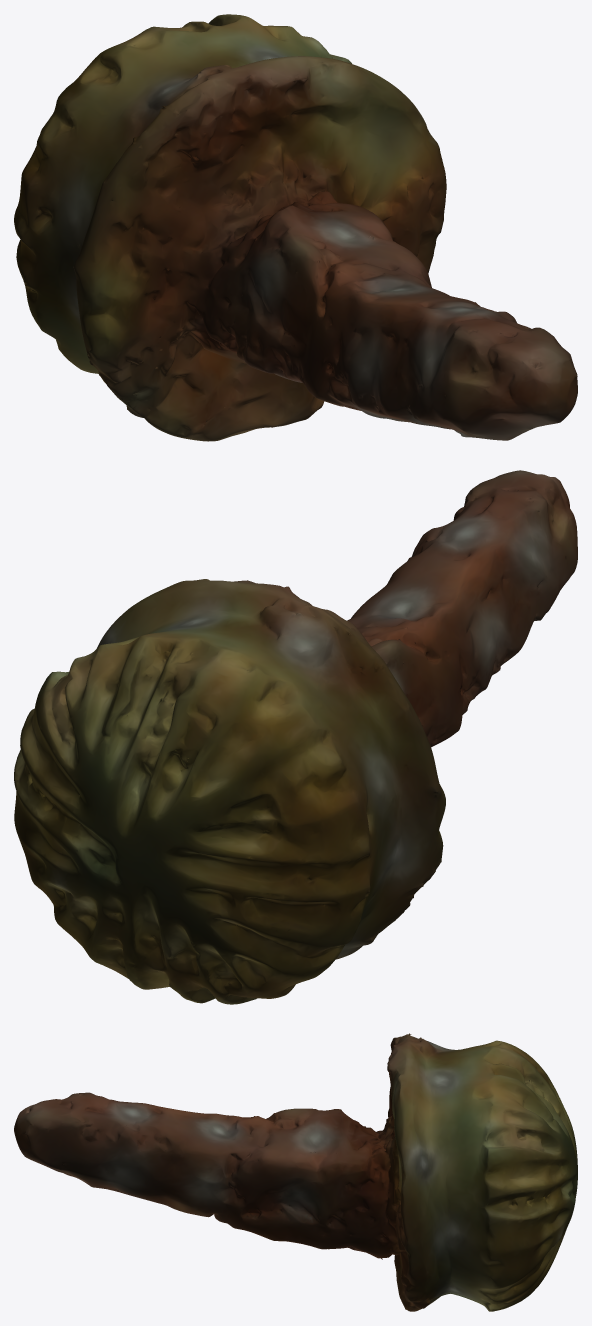
The picture shows the model from 3 angles, top to bottom: view 1: azimuth 30°, elevation 25°; view 2: azimuth 150°, elevation 25°; view 3: azimuth 270°, elevation 25°; orthographic projection. The views are drawn at different scales.
Parts seen in each view (by area): view 1: 2017_34_3321_2; view 2: 2017_34_3321_2; view 3: 2017_34_3321_2.
Boxes of the visible parts, x1,y1,x2,y2 form: 2017_34_3321_2: (14, 14, 577, 441); 2017_34_3321_2: (14, 470, 577, 1004); 2017_34_3321_2: (14, 1033, 577, 1311).
Bounding box in the file's own units: 14.62 × 14.09 × 29.01.
